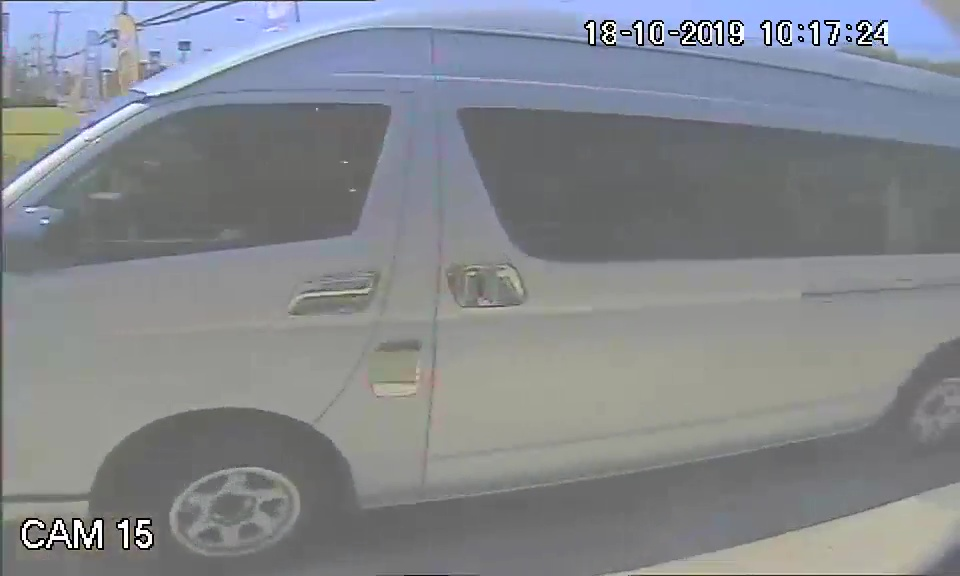van: (11, 7, 832, 566)
